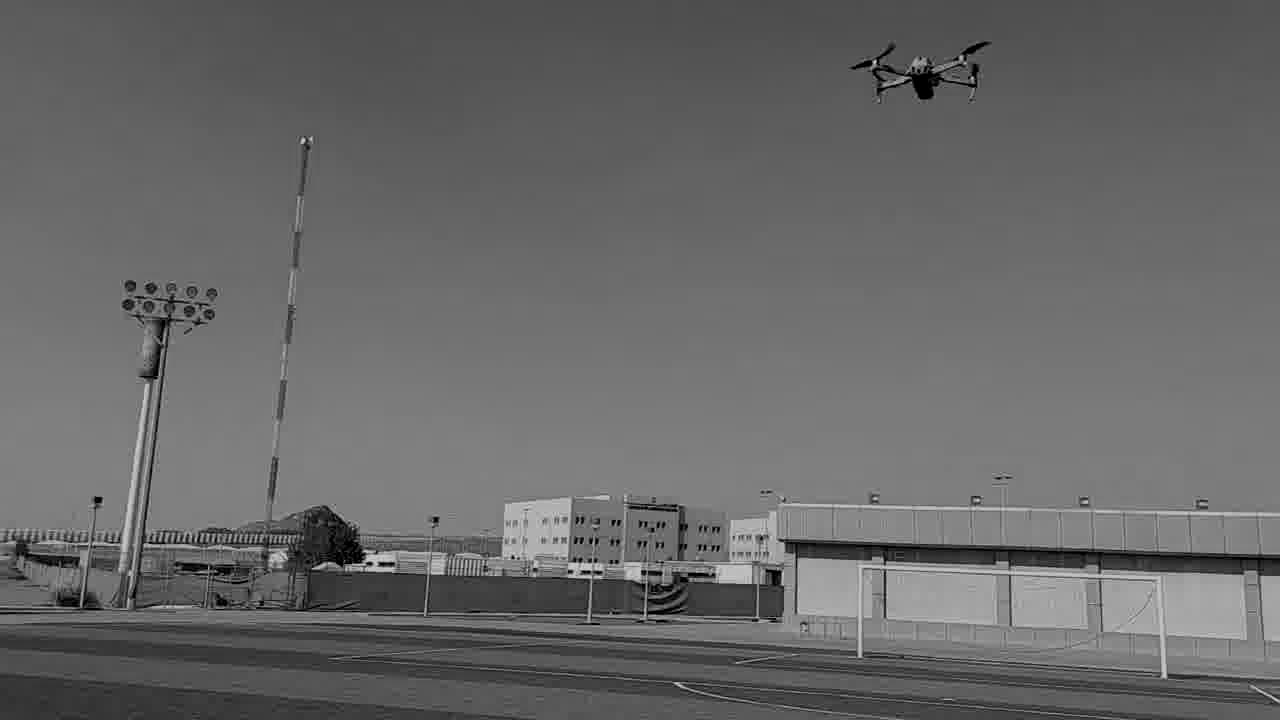drone: (843, 39, 994, 103)
